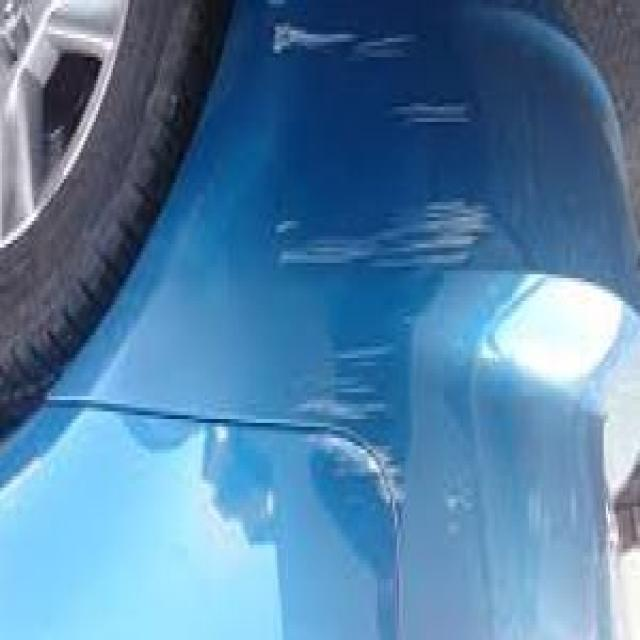scratch: (253, 13, 528, 558)
